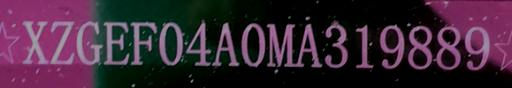letter: (264, 20, 300, 70), (377, 21, 409, 75), (404, 21, 436, 73), (182, 18, 214, 68), (210, 19, 242, 69), (293, 20, 325, 70), (20, 17, 50, 69), (434, 23, 464, 75), (128, 18, 160, 66), (347, 23, 379, 71), (101, 17, 131, 66), (462, 23, 492, 72), (74, 17, 104, 65), (48, 16, 76, 66), (157, 19, 185, 69), (322, 22, 352, 68), (240, 21, 266, 71)
